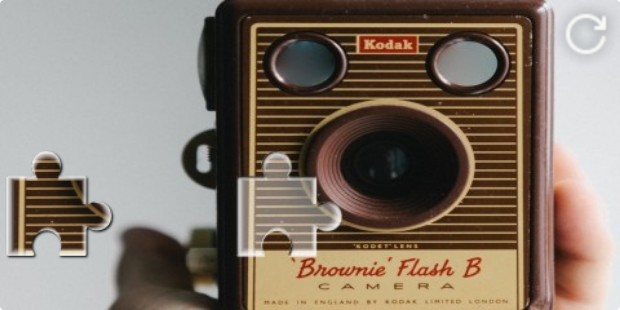target: (237, 152, 341, 257)
